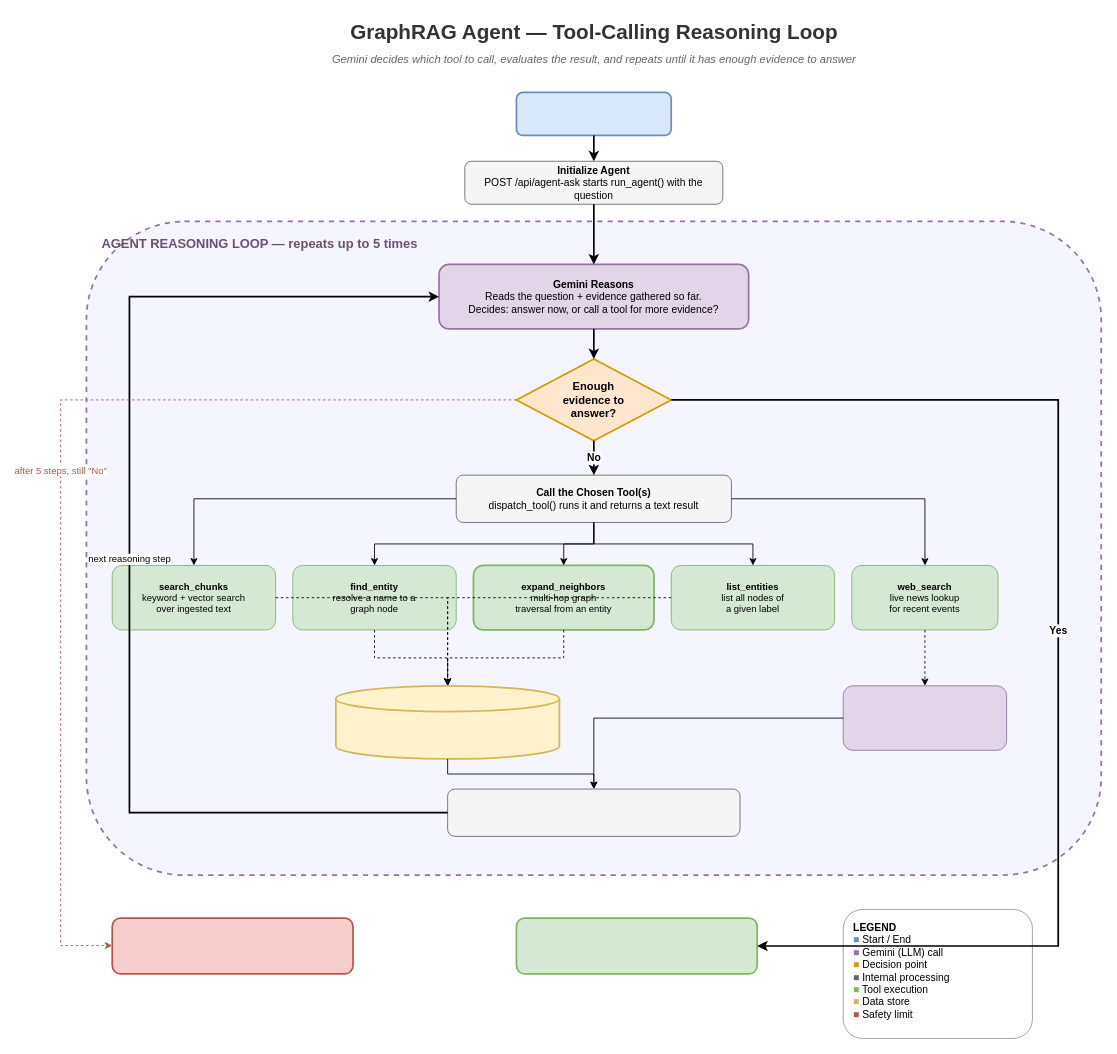
Image size: 1117x1054. Some labels were removed from this diagram. The shapes that lost their labels are listed below. From the top down, each one's box as (x1, y1, x2, y2) in pixels, then its label:
(515, 91, 672, 136): User Question
(335, 685, 560, 759): GraphStore SQLite / Neo4j nodes · edges · chunks
(842, 685, 1007, 750): Gemini + Google Search built-in live web grounding tool
(447, 788, 740, 836): Result Returned to Gemini appended to the conversation as the next turn
(111, 917, 353, 974): Safety Cap After 5 steps with no answer, stop and return an error
(515, 917, 758, 974): Final Answer Cited bullets, grounded only in what the tools actually returned
